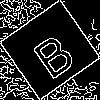B: (25, 24, 78, 81)
